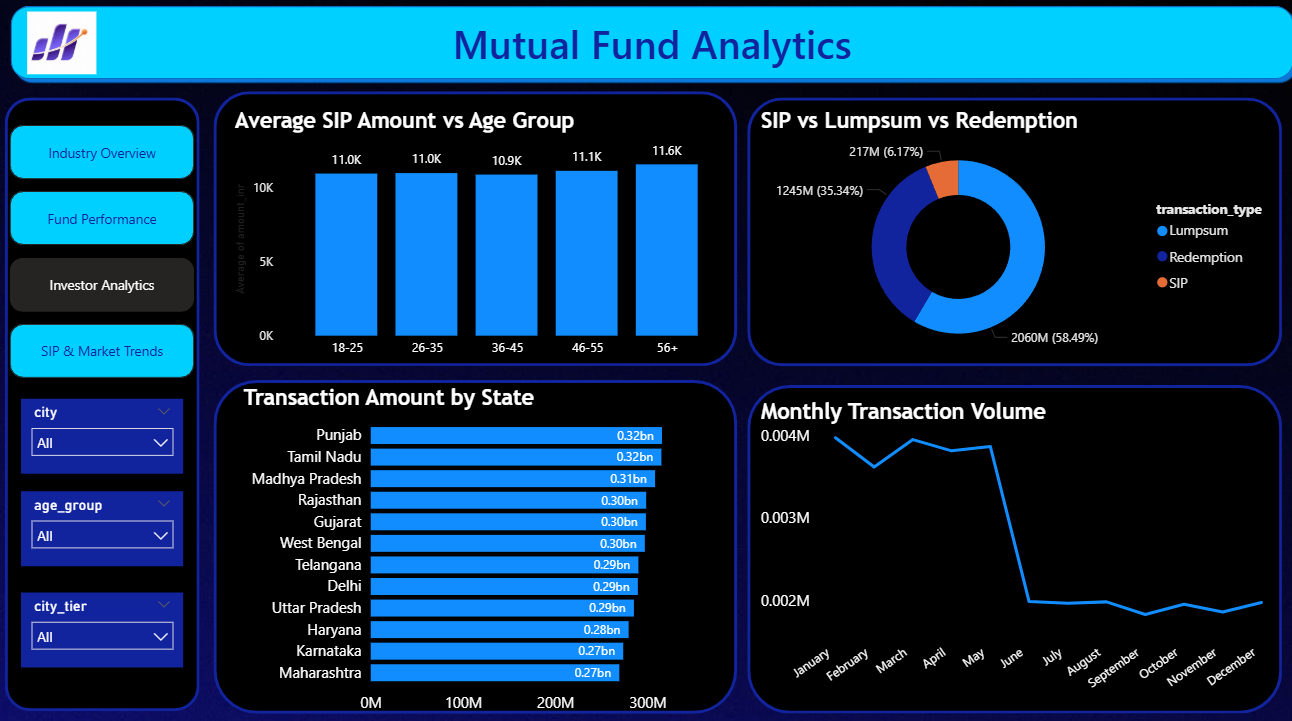

This screenshot's page, from the dashboard's own definition file:
{"tool":"powerbi","page":{"name":" Investor Analytics","canvas":[1280,720],"ordinal":2},"visuals":[{"type":"shape","box":[213.5,89.6,514.1,269.9],"z":0},{"type":"shape","box":[737.4,95.7,525.2,263.8],"z":1000},{"type":"donutChart","title":"SIP vs Lumpsum vs Redemption","fields":{"Category":["08_investor_transactions.transaction_type"],"Y":["Sum(08_investor_transactions.amount_inr)"]},"box":[746,105.5,516.6,254],"z":2000},{"type":"shape","box":[213.5,373,514.1,327.6],"z":3000},{"type":"clusteredColumnChart","title":" Average SIP Amount vs Age Group ","fields":{"Category":["08_investor_transactions.age_group"],"Y":["Avg(08_investor_transactions.amount_inr)"]},"box":[229.4,105.5,498.2,254],"z":4000},{"type":"clusteredBarChart","title":"Transaction Amount by State","fields":{"Category":["08_investor_transactions.state"],"Y":["Sum(08_investor_transactions.amount_inr)"]},"box":[238,377.9,482.2,332.5],"z":5000},{"type":"shape","box":[737.4,377.9,525.2,322.7],"z":6000},{"type":"lineChart","title":"Monthly Transaction Volume","fields":{"Y":["CountNonNull(08_investor_transactions.investor_id)"],"Category":["08_investor_transactions.transaction_date.Variation.Date Hierarchy.Month"]},"box":[746,391.4,516.6,306.8],"z":7000},{"type":"shape","box":[8.6,95.7,191.4,602.5],"z":8000},{"type":"pageNavigator","box":[13.5,122.7,181.6,250.3],"z":9000},{"type":"slicer","fields":{"Values":["08_investor_transactions.city"]},"box":[24.5,391.4,159.5,73.6],"z":10000},{"type":"slicer","fields":{"Values":["08_investor_transactions.age_group"]},"box":[24.5,482.2,159.5,73.6],"z":11000},{"type":"slicer","fields":{"Values":["08_investor_transactions.city_tier"]},"box":[24.5,581.6,159.5,73.6],"z":12000},{"type":"shape","box":[8.7,0,1271.1,83.7],"z":13000},{"type":"image","box":[26,4.3,77.9,75],"z":14000}]}

Visuals, with their boxes in screenshot pixels (x1, y1, x2, y2), scaled from the page's 1280x720 canvas onto the 1292x721 screenshot:
shape: 216, 90, 734, 360
shape: 744, 96, 1274, 360
"SIP vs Lumpsum vs Redemption" donutChart: 753, 106, 1274, 360
shape: 216, 374, 734, 702
" Average SIP Amount vs Age Group " clusteredColumnChart: 232, 106, 734, 360
"Transaction Amount by State" clusteredBarChart: 240, 378, 727, 711
shape: 744, 378, 1274, 702
"Monthly Transaction Volume" lineChart: 753, 392, 1274, 699
shape: 9, 96, 202, 699
pageNavigator: 14, 123, 197, 374
slicer - 08_investor_transactions.city: 25, 392, 186, 466
slicer - 08_investor_transactions.age_group: 25, 483, 186, 557
slicer - 08_investor_transactions.city_tier: 25, 582, 186, 656
shape: 9, 0, 1291, 84
image: 26, 4, 105, 79
